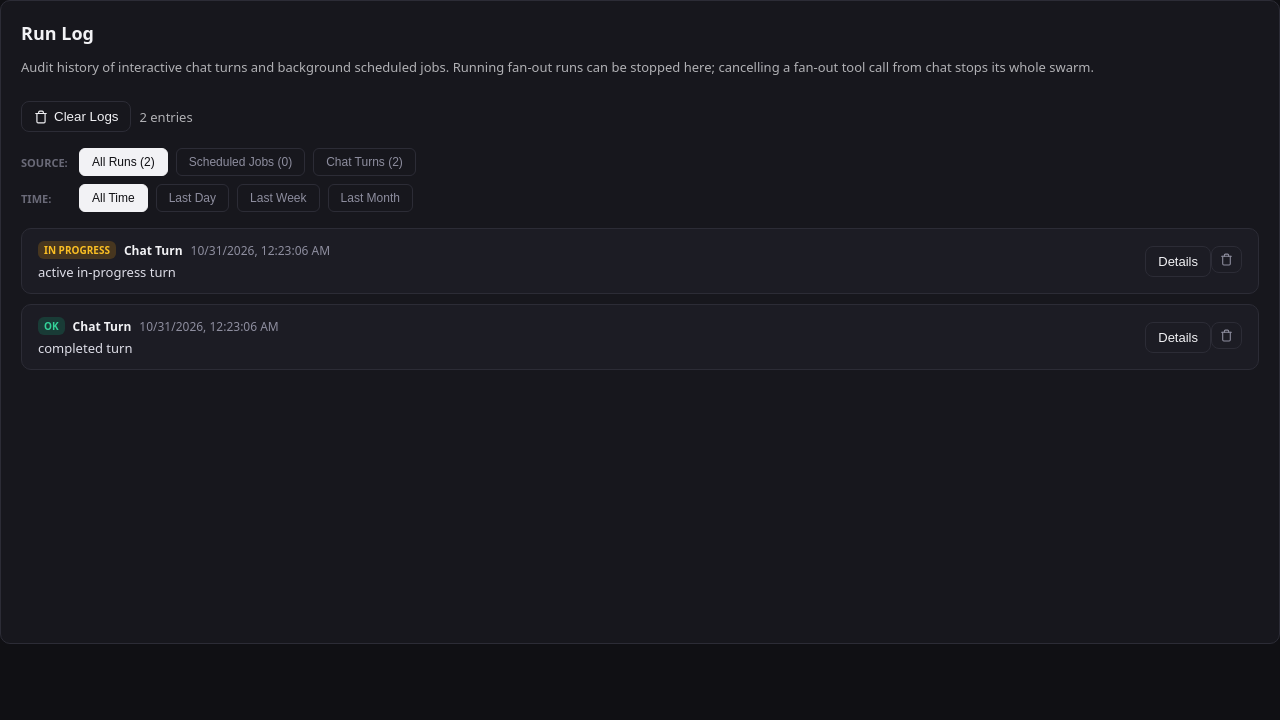
Scenario: RunLogViewer › clears completed runs while preserving in-progress runs
This screenshot has width=1280, height=720.
Expected: the text "active in-progress turn" is shown, [38,263,176,281]
Expected: the text "completed turn" is shown, [38,339,132,357]
Click the button with aria-label "Clean up run history" at {"x": 76, "y": 116}, box [21,101,132,132]
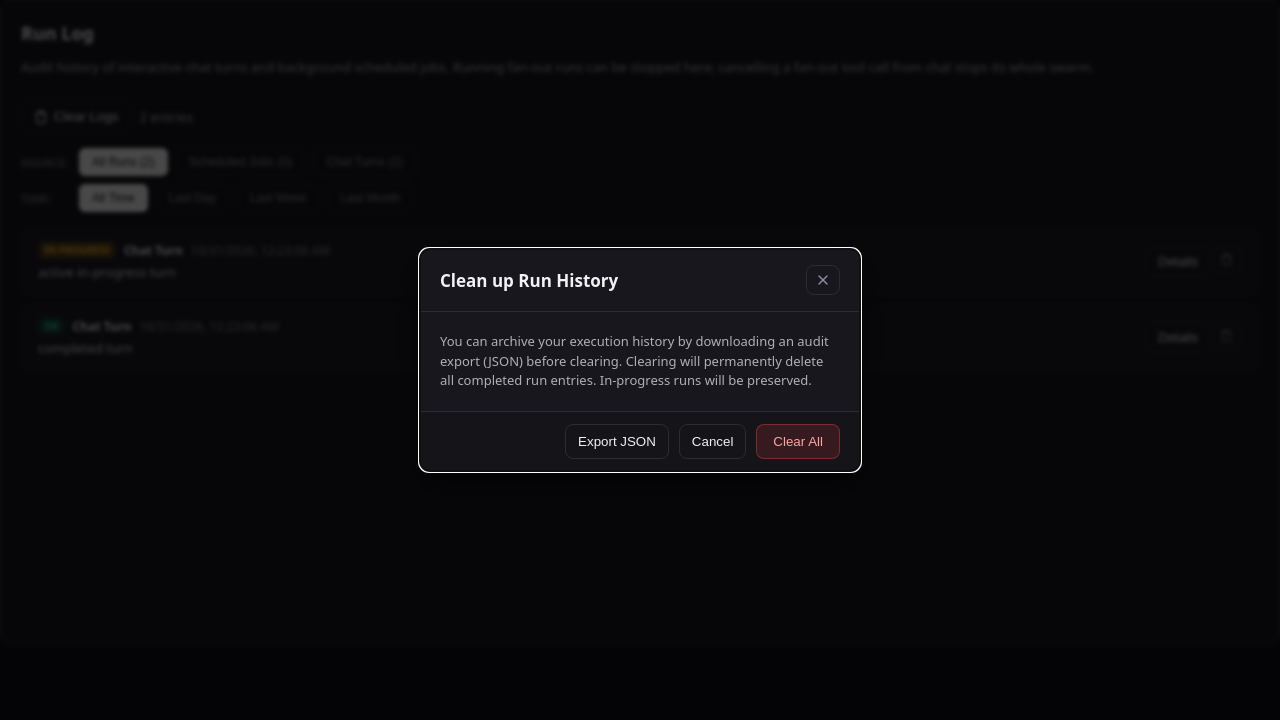
Click the button with aria-label "Confirm clear all runs" at {"x": 798, "y": 441}, box [756,424,840,459]
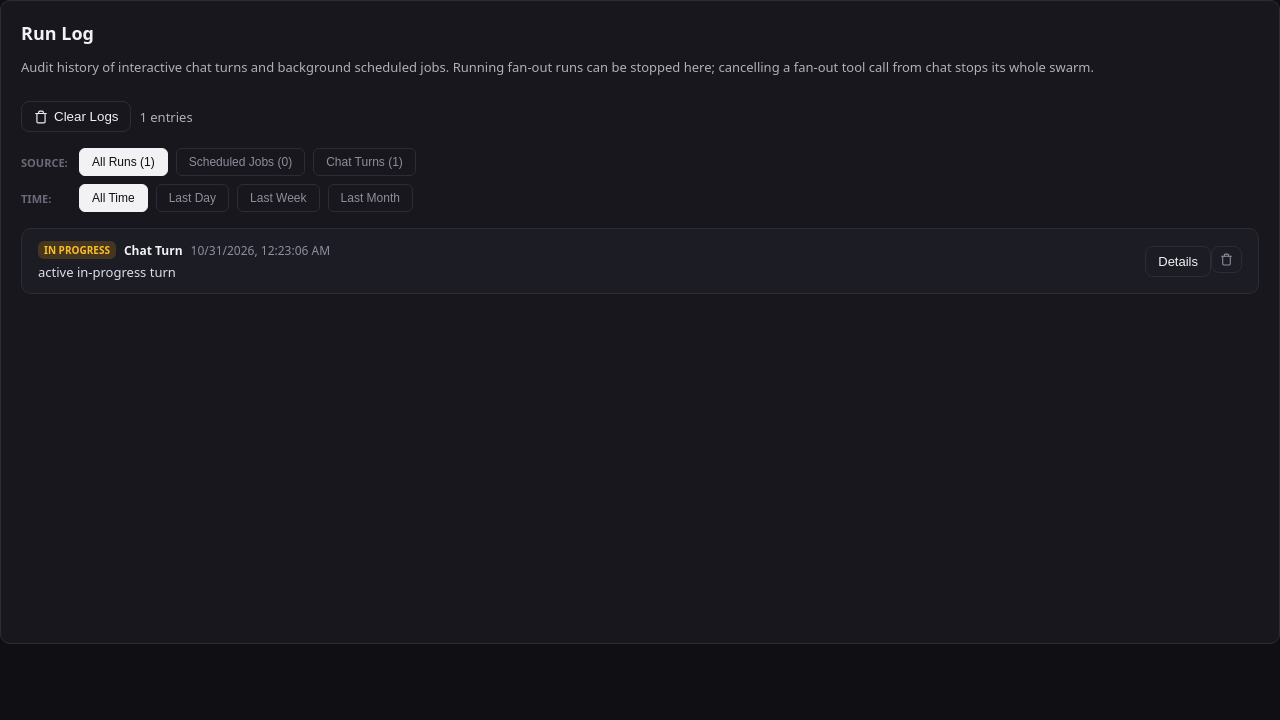
Expected: the text "active in-progress turn" is shown, [38,263,176,281]
Expected: the text "completed turn" is gone
